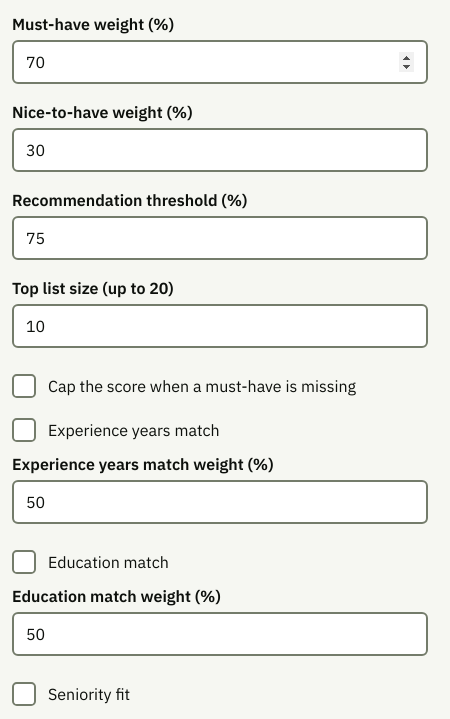
Test: scoring defaults › changing the must-have weight updates the other so they total 100
expect the number field showing "75" is shown: met, box [12,216,428,260]
Replace the text in the number field labelled "Must-have weight (%)" with "55": (220, 62) [12,40,428,84]
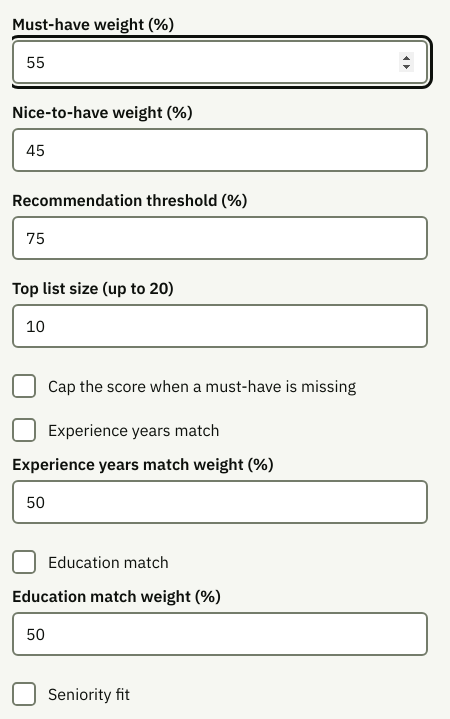
expect the number field labelled "Nice-to-have weight (%)" holds "45": met, box [12,128,428,172]
